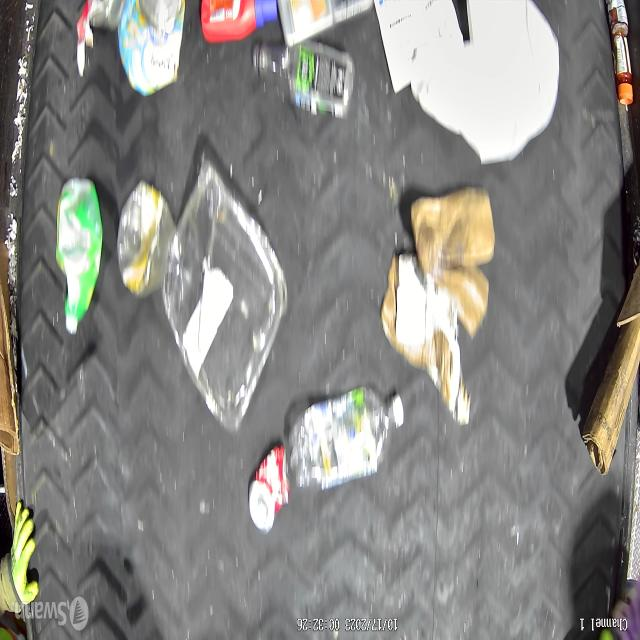can: (247, 443, 290, 535)
milk_jug: (416, 2, 561, 167)
non_white_jug: (56, 176, 104, 338), (198, 0, 280, 45)
plastic_bottle: (289, 387, 404, 491), (254, 39, 358, 117)
